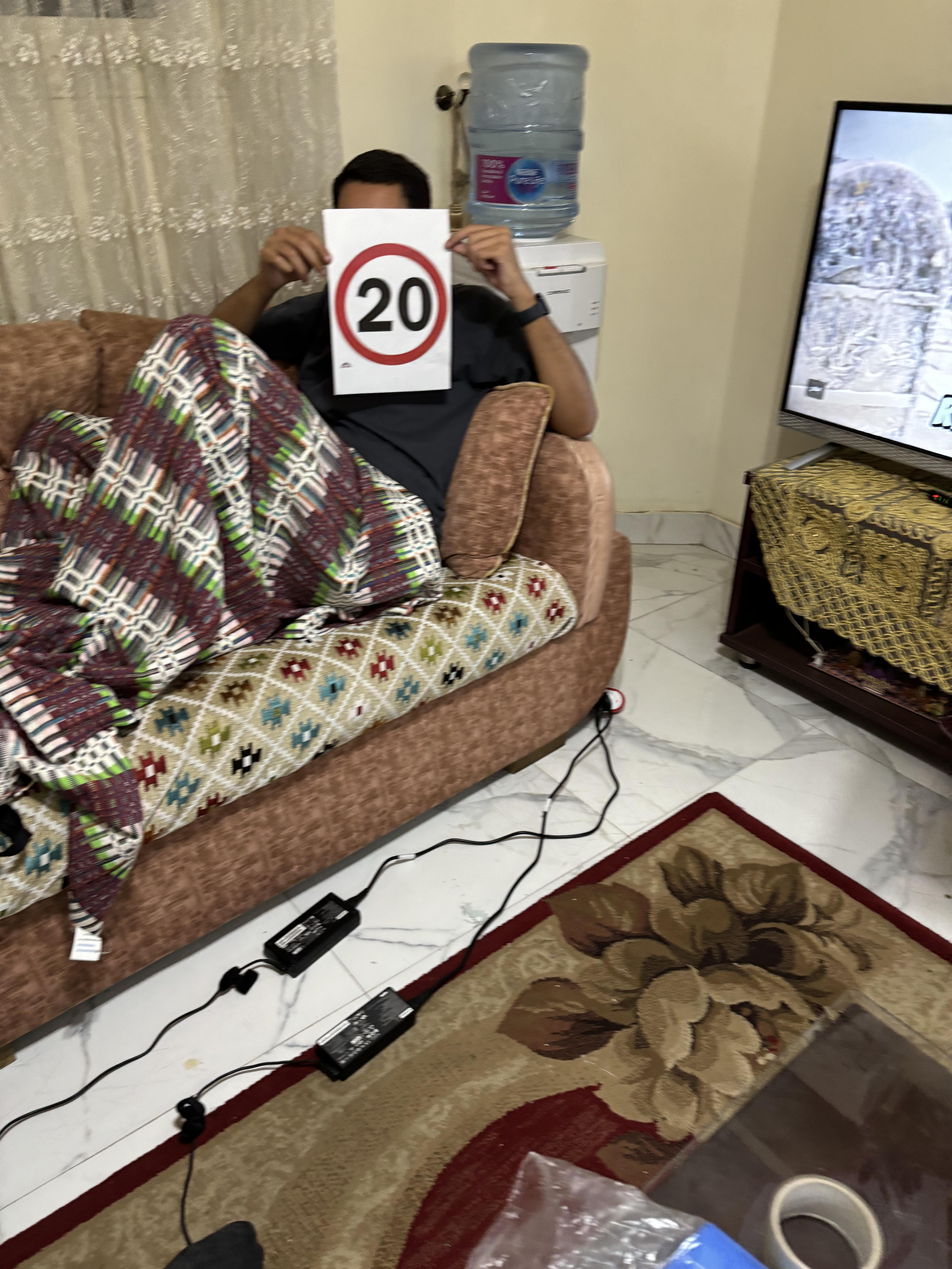20-Speed: (329, 240, 454, 364)
